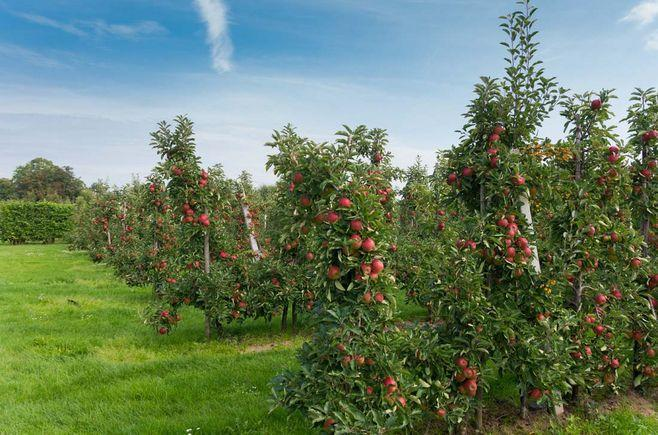apple: (325, 265, 344, 279), (506, 217, 521, 234), (464, 380, 479, 391), (361, 262, 371, 278), (458, 357, 469, 369)
